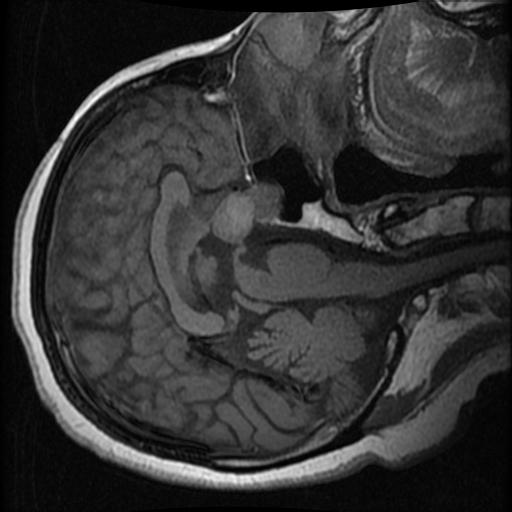pituitary tumour: (213, 184, 283, 245)
